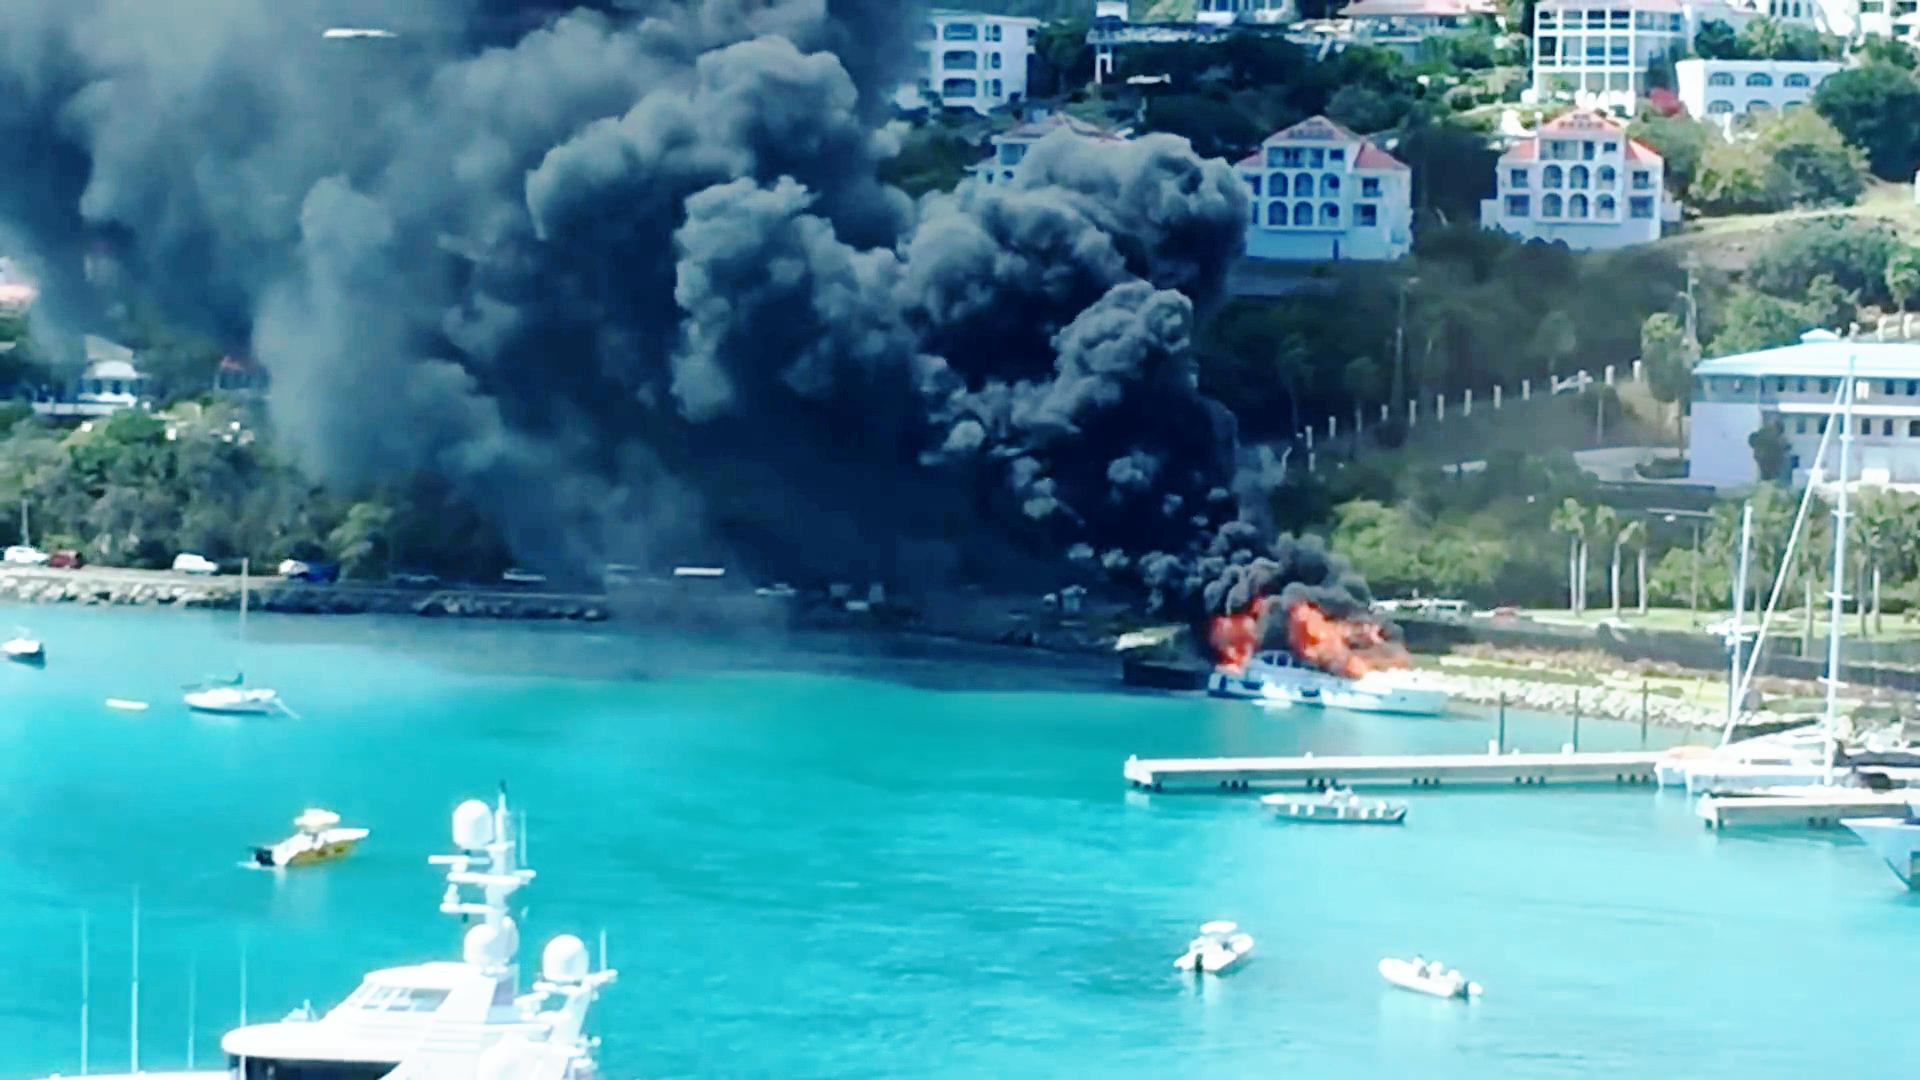smoke: (290, 44, 869, 525), (0, 5, 884, 301), (868, 111, 1275, 506), (1058, 508, 1288, 637)
